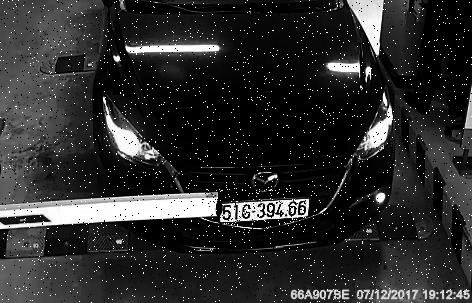License-plate: (207, 188, 319, 234)
